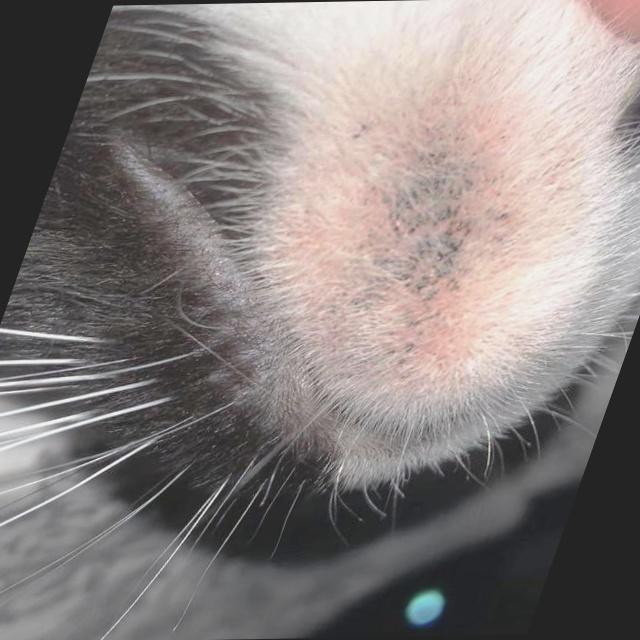acne: (239, 97, 560, 391)
